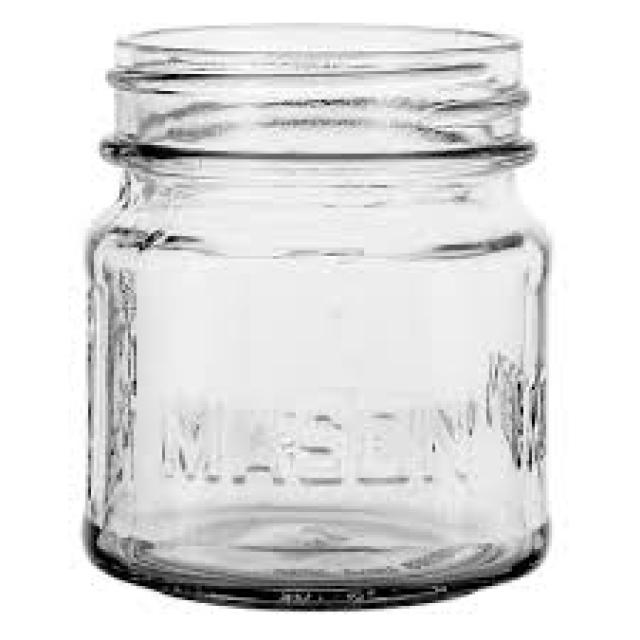glass: (85, 20, 549, 606)
